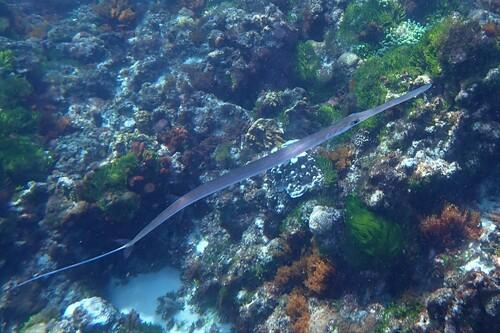Fistularia commersonii: (11, 79, 434, 288)
